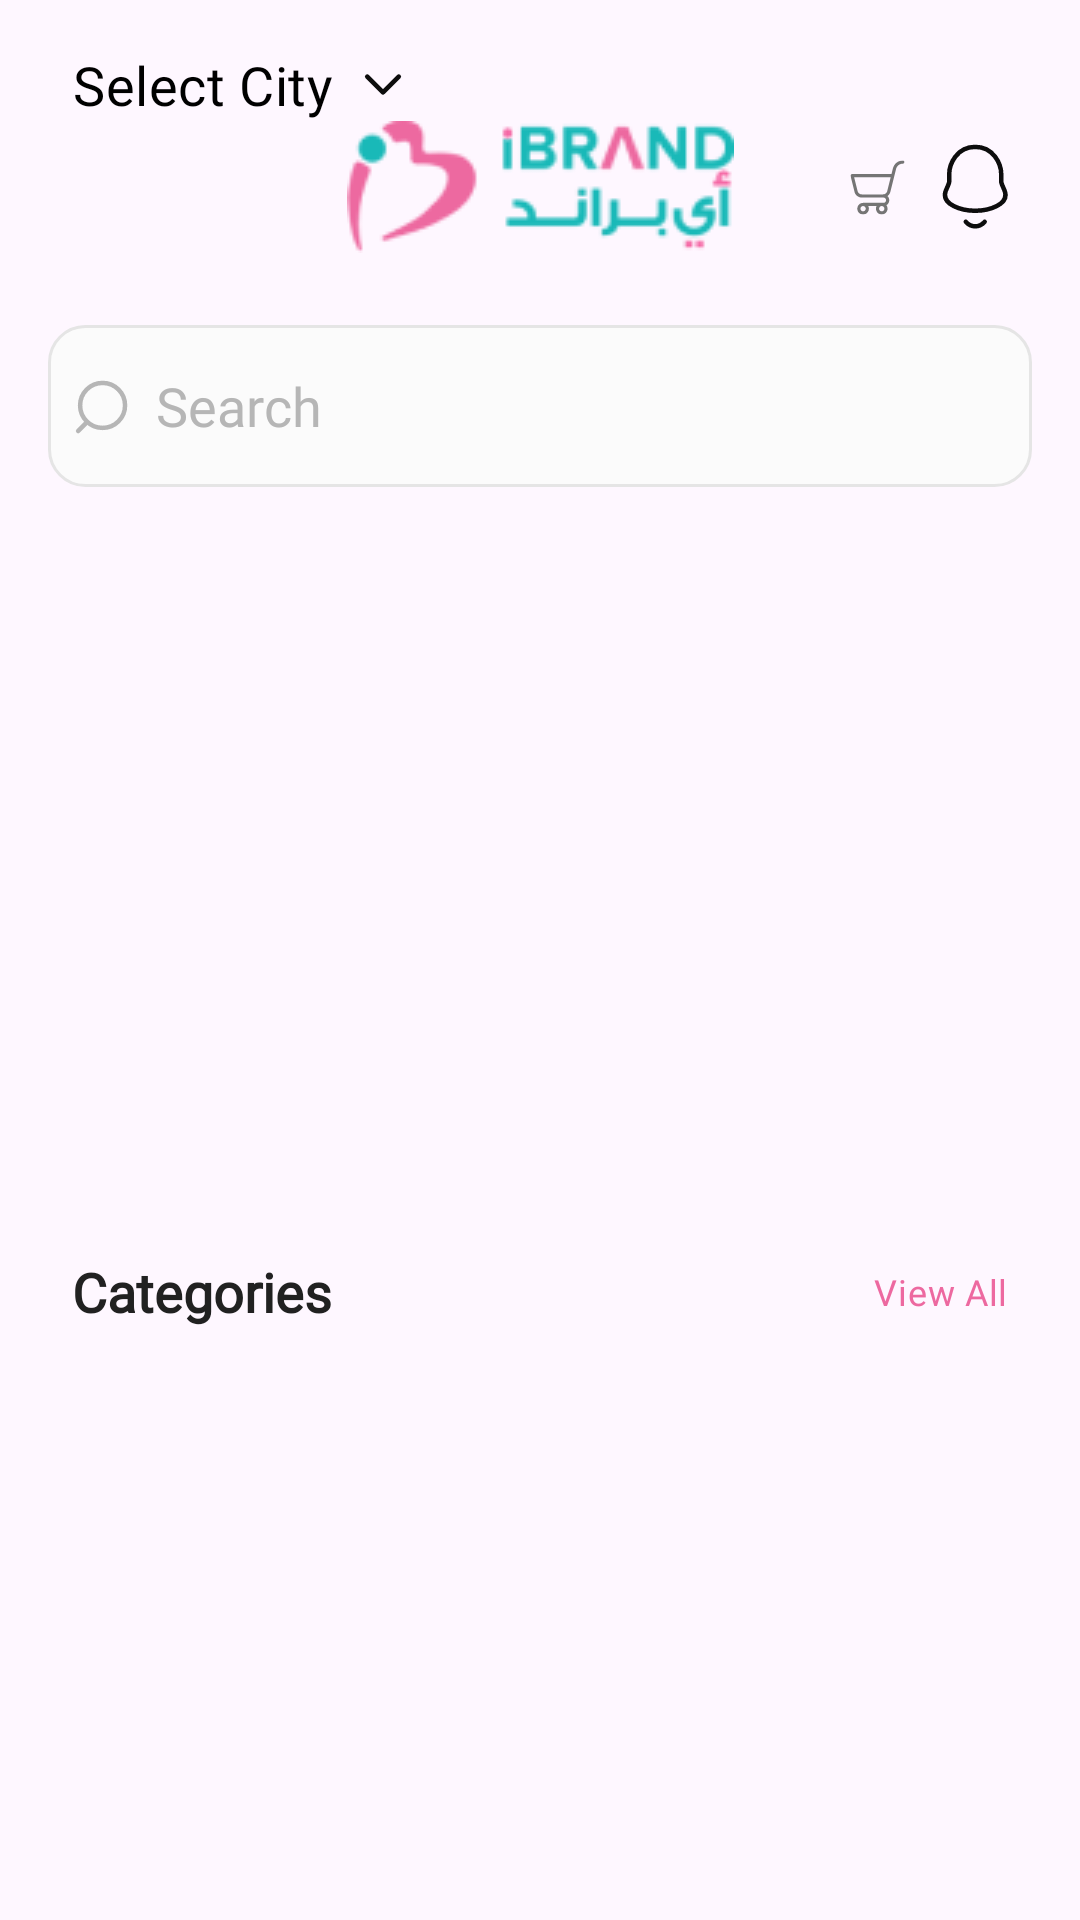

Icon bounding boxes for this 1080×1920 phone screenshot, format BBox(x1, y1, x2, y2):
cart: BBox(850, 160, 905, 215)
notification: BBox(942, 144, 1008, 229)
